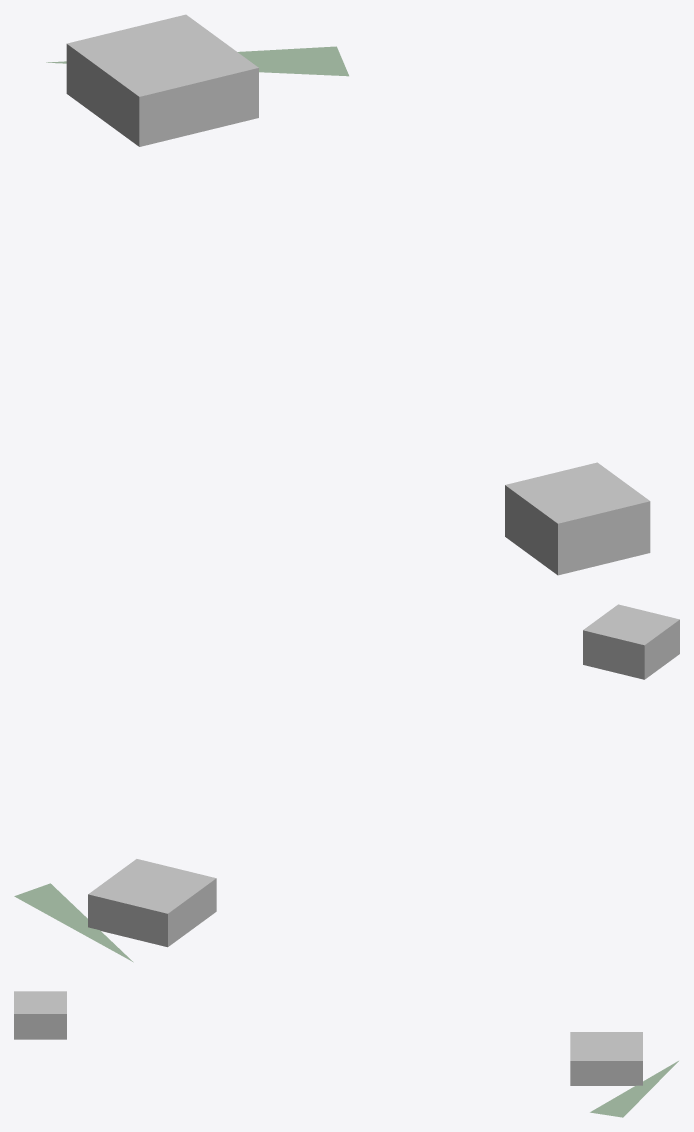
Rendered from 139_84_mid.glb.
3 renders of one model, top to bottom at view 1: azimuth 30°, elevation 25°; view 2: azimuth 150°, elevation 25°; view 3: azimuth 270°, elevation 25°, orthographic. The views are drawn at different scales.
Bounding box in the file's own units: 104 × 16.37 × 308.
